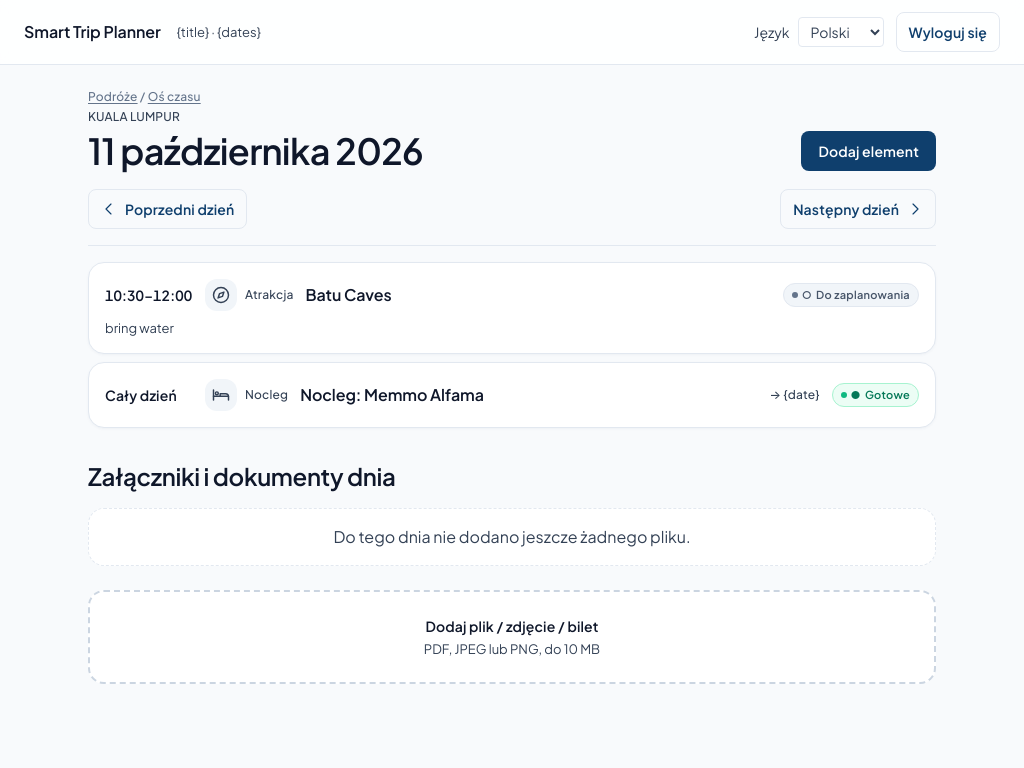
Scenario: the item editor › discards the draft when the edit is cancelled
The width and height of the screenshot is (1024, 768).
Click the button "Batu Caves". click: (149, 295)
box: x1=88 y1=262 x2=936 y2=354
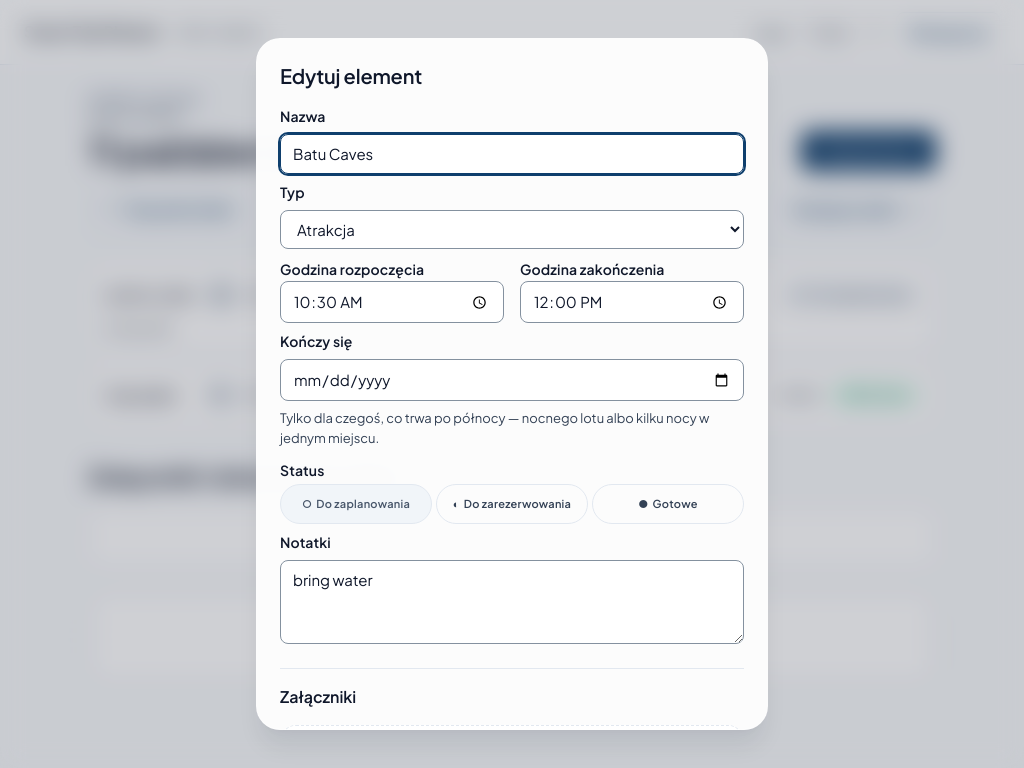
Replace the text in the field labelled "Nazwa" with "coś zupełnie innego". click: (512, 154)
box: x1=280 y1=134 x2=744 y2=174
(page scrolled)
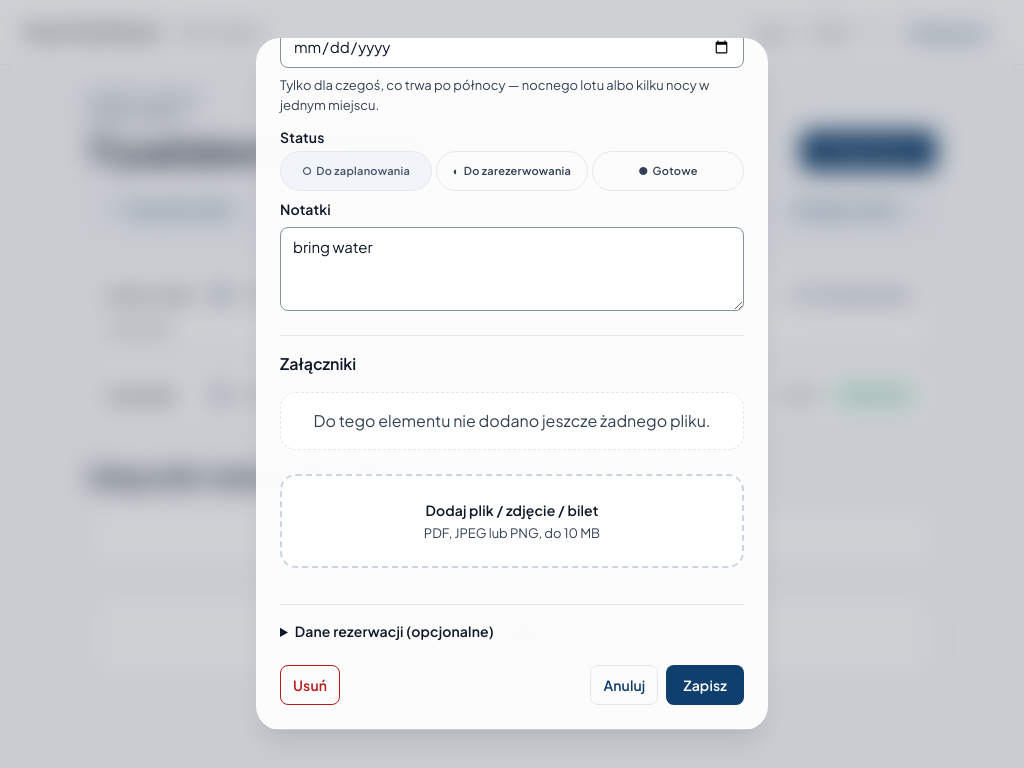
Click the button "Anuluj". click: (624, 685)
box: x1=590 y1=665 x2=658 y2=705
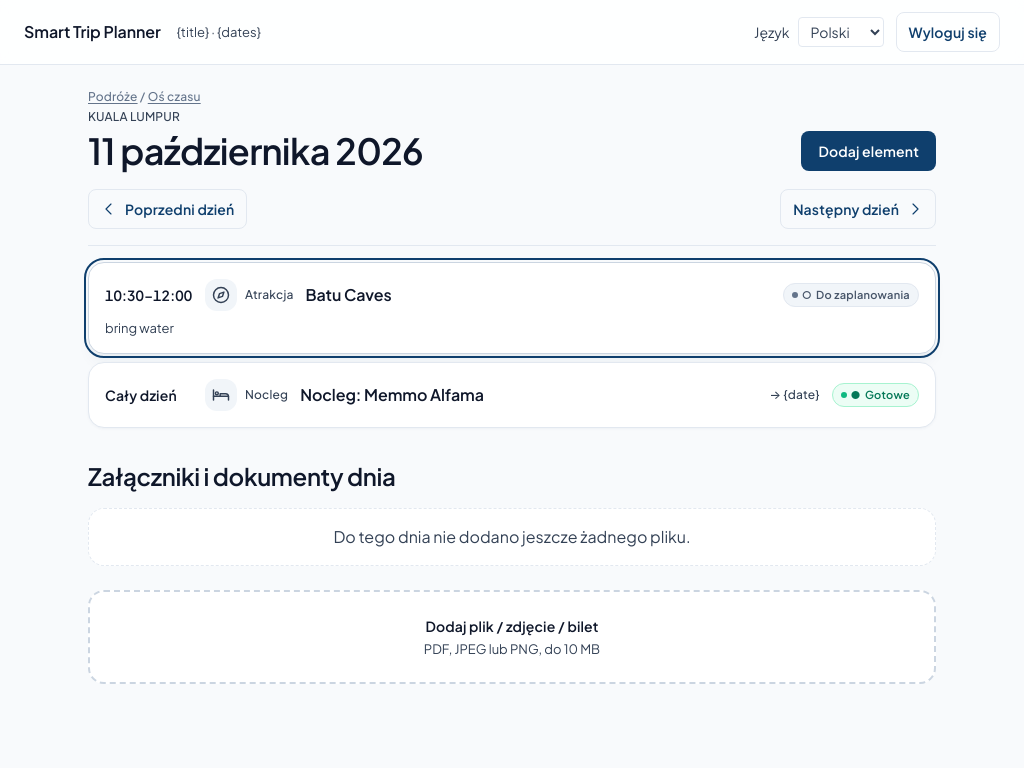
Click the button "Batu Caves". click: (149, 295)
box: x1=88 y1=262 x2=936 y2=354
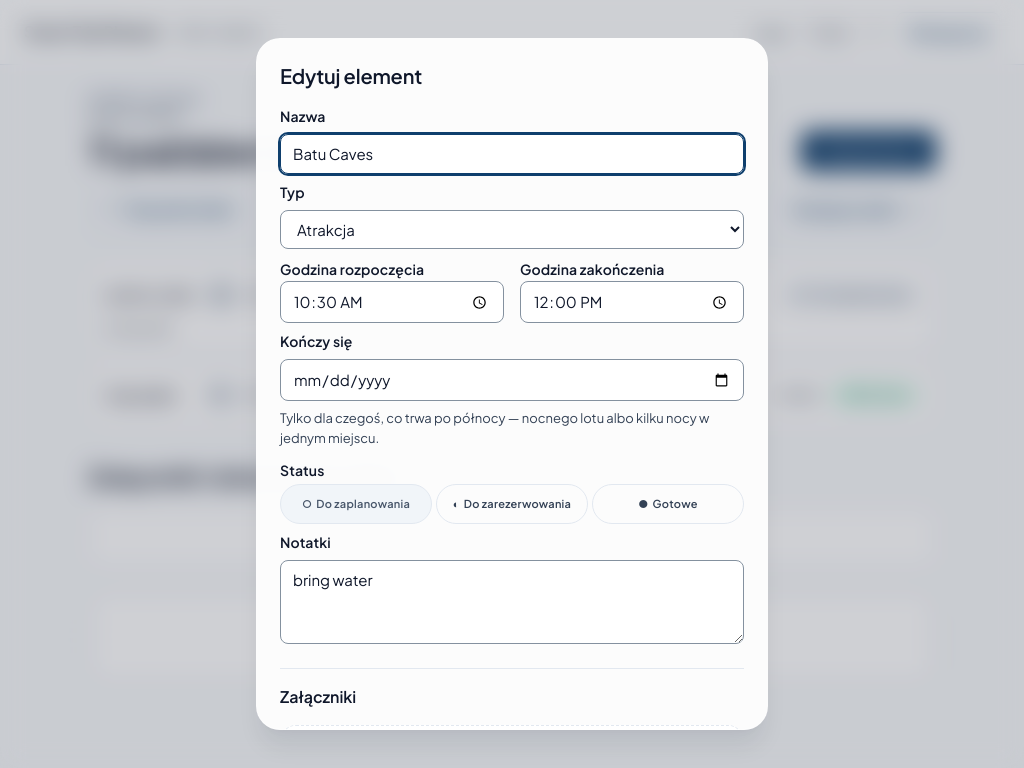
Expected: the field labelled "Nazwa" holds "Batu Caves", x1=280 y1=134 x2=744 y2=174
